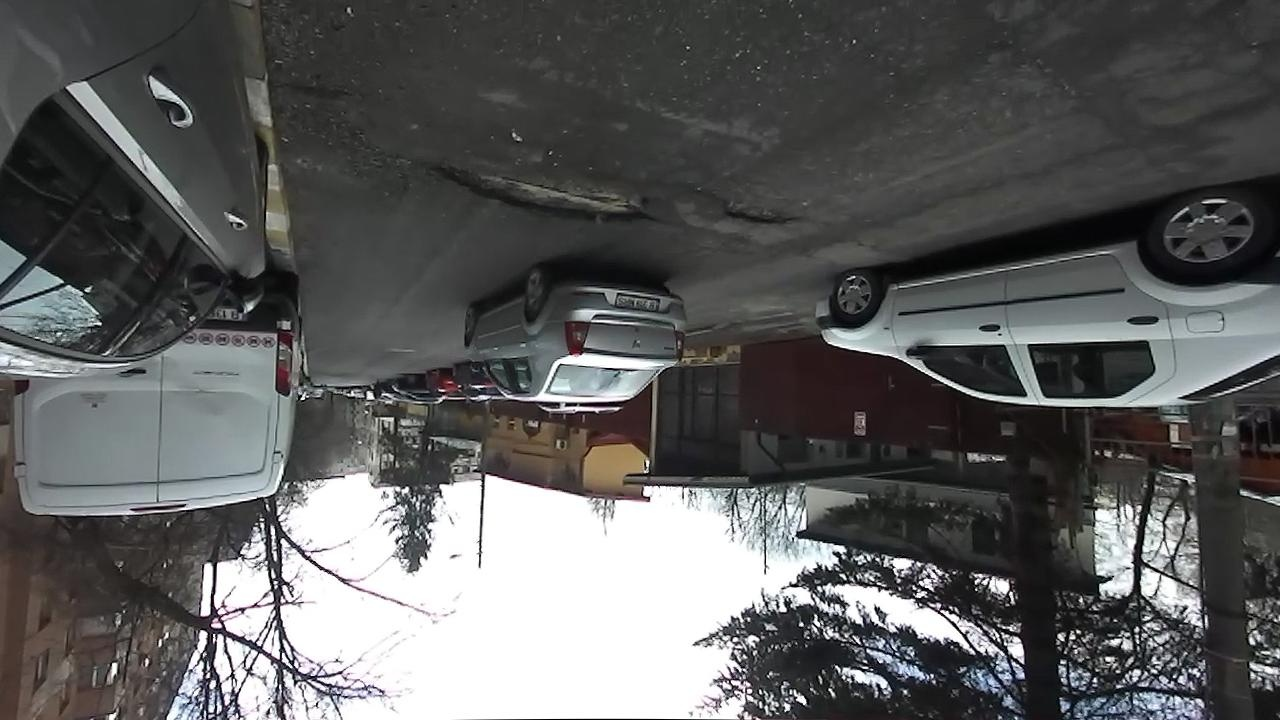pothole: (421, 155, 657, 230), (711, 191, 804, 230)
